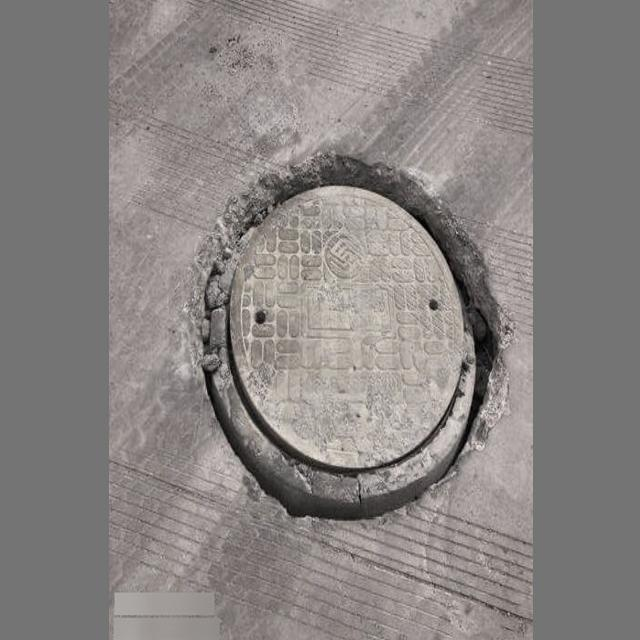circle: (194, 156, 497, 528)
